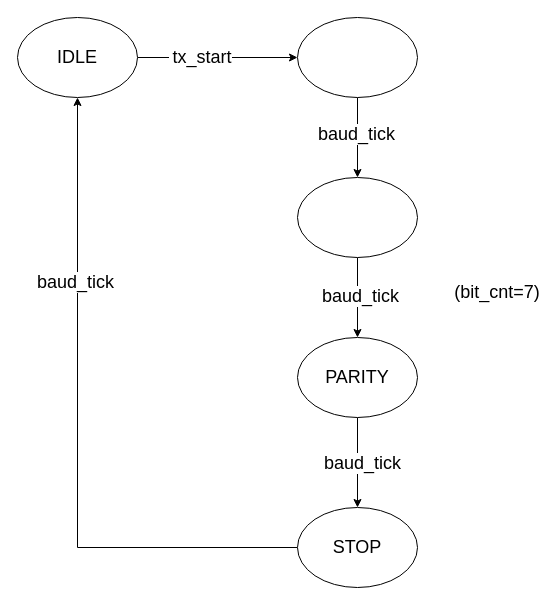
Image size: 558x605. Some labels were removed from this diagram. Each missing label, with the box of its shape:
DATA: (296, 176, 418, 258)
START: (296, 16, 418, 98)
